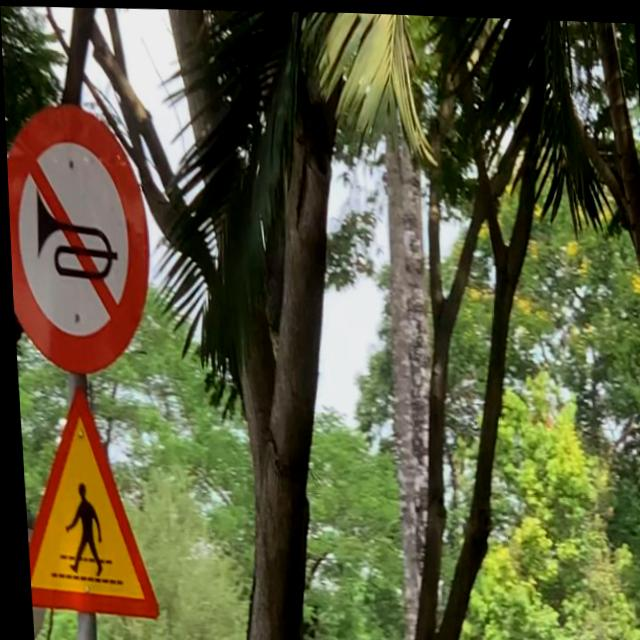Nguoi di bo cat ngang: (14, 373, 162, 625)
